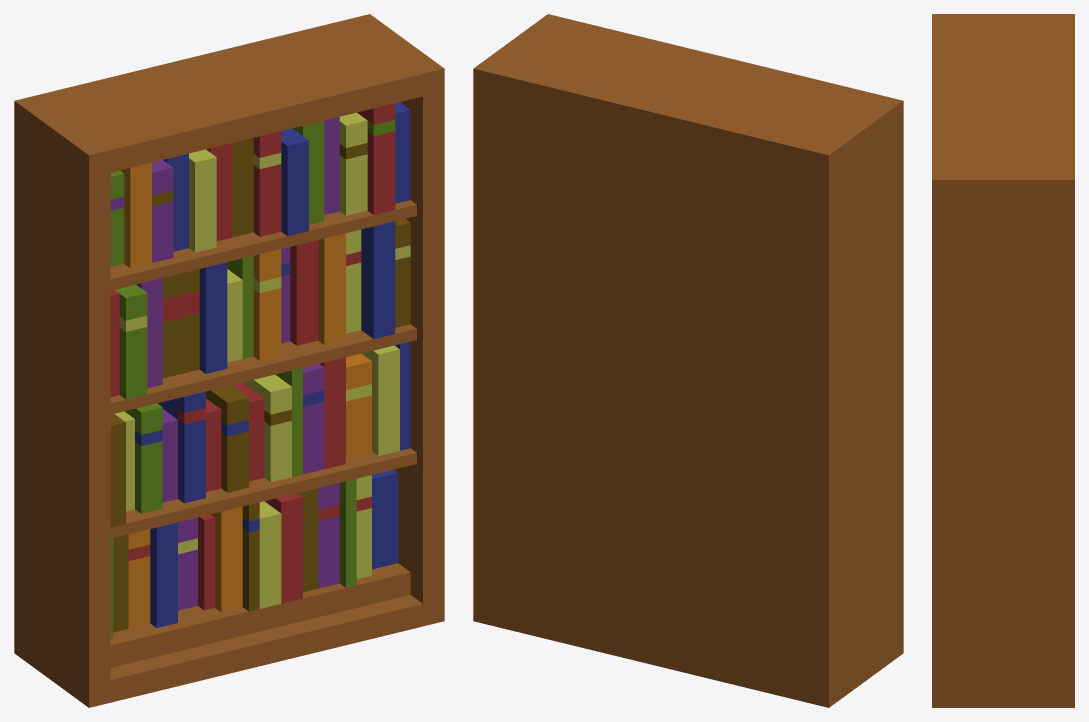
Rendered from Bookshelf1.obj.
The picture shows the model from 3 angles, left to right: view 1: azimuth 30°, elevation 25°; view 2: azimuth 150°, elevation 25°; view 3: azimuth 270°, elevation 25°; orthographic projection. The views are drawn at different scales.
Size of the model in its own units: 3.3 by 4.9 by 1.2.
1 material, 1 textured.
